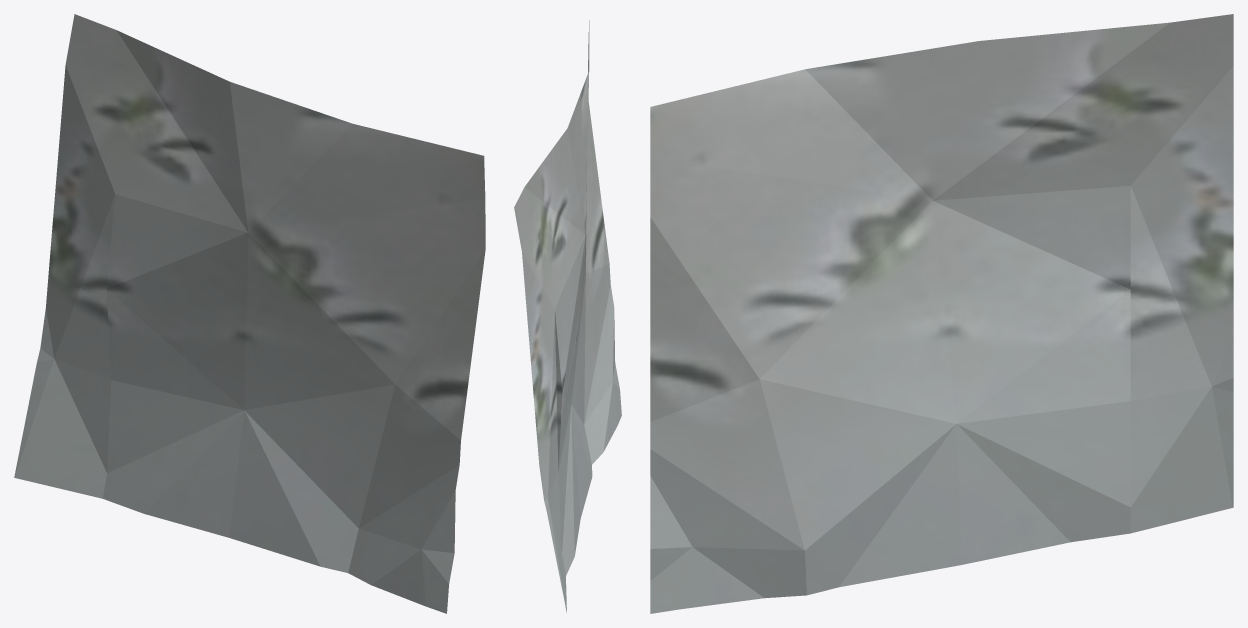
The picture shows the model from 3 angles, left to right: view 1: azimuth 30°, elevation 25°; view 2: azimuth 150°, elevation 25°; view 3: azimuth 270°, elevation 25°; orthographic projection. The views are drawn at different scales.
Bounding box in the file's own units: 0.4369 × 0.8374 × 0.8374.
3 materials, 3 textured.
